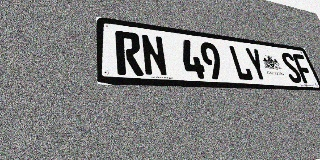4: (179, 39, 207, 79)
9: (199, 41, 226, 80)
F: (292, 53, 315, 84)
L: (228, 45, 254, 81)
N: (140, 34, 169, 77)
R: (115, 30, 144, 76)
S: (279, 52, 304, 83)
Y: (244, 47, 270, 82)
